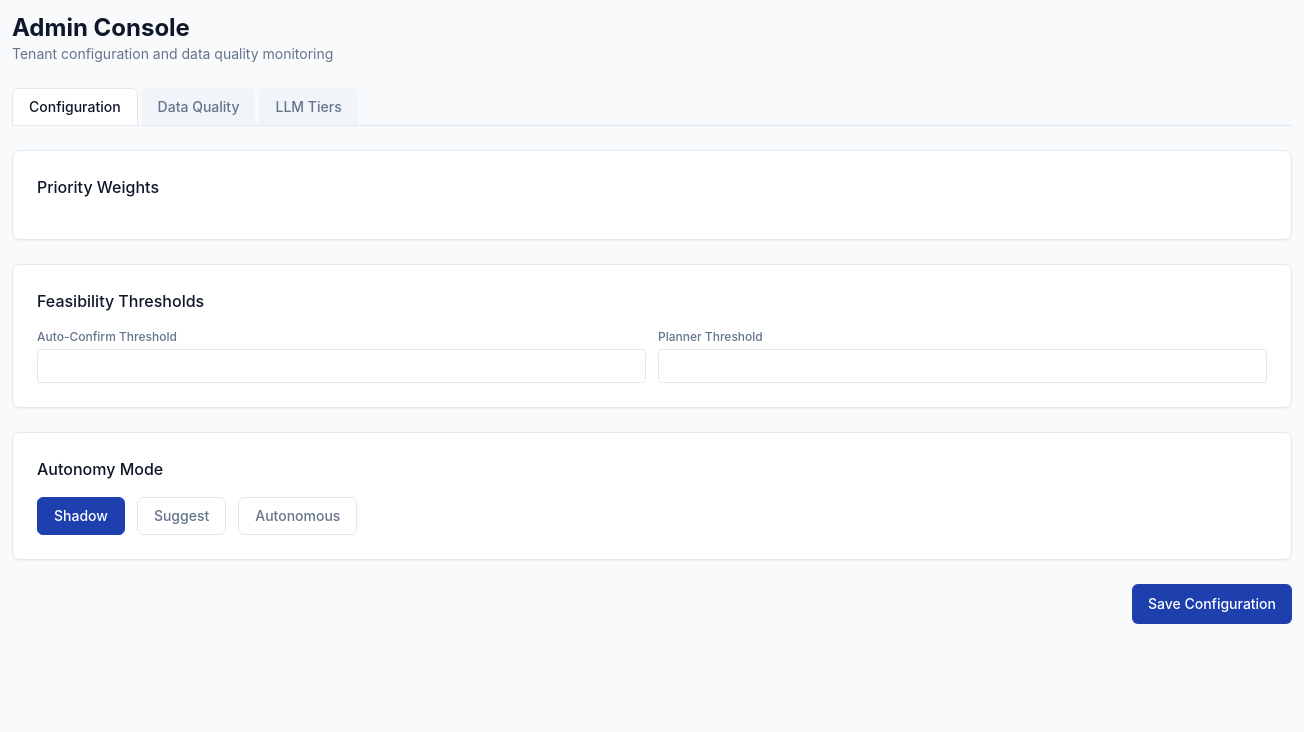
Test: AdminPage › shows data quality metrics when tab is clicked
Expected: the heading "Admin Console" is shown, [12, 13, 190, 42]
Click the button "Data Quality" at {"x": 199, "y": 106}, box [142, 88, 256, 125]
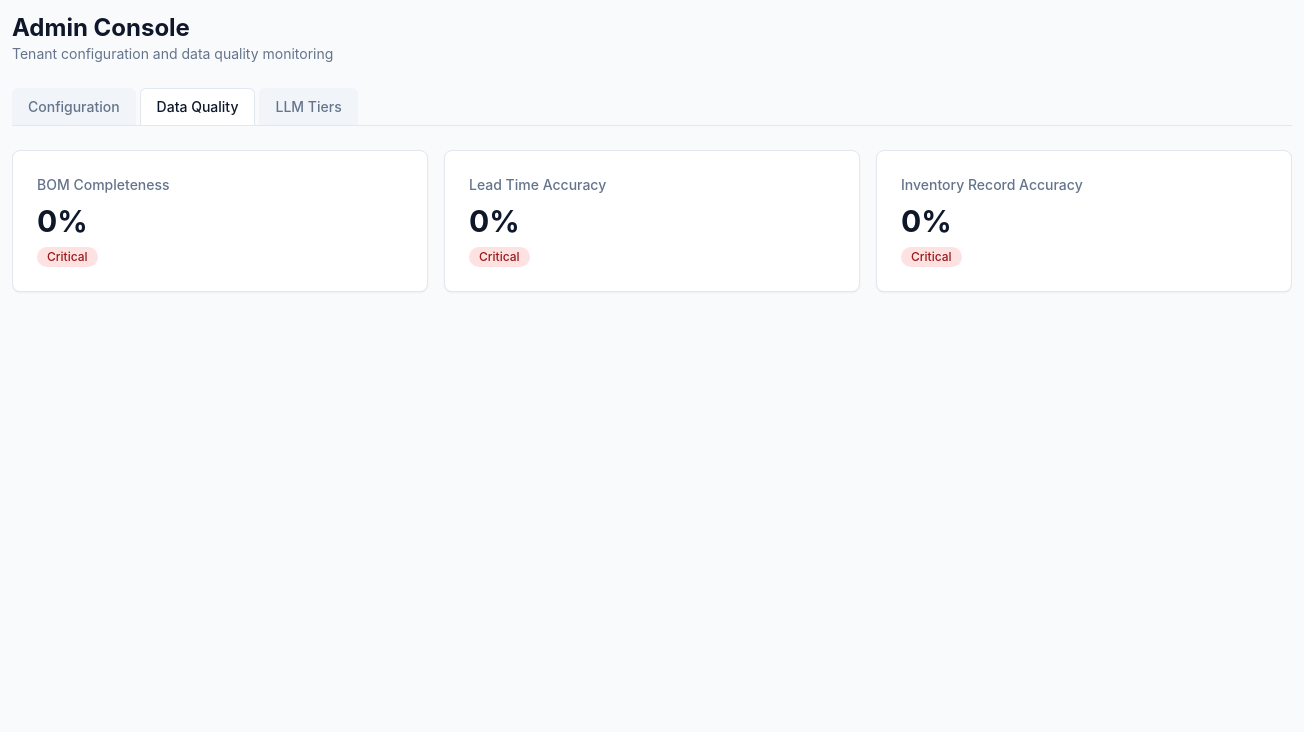
Expected: the heading "BOM Completeness" is shown, [37, 176, 170, 193]
Expected: the heading "Lead Time Accuracy" is shown, [469, 176, 606, 193]
Expected: the heading "Inventory Record Accuracy" is shown, [901, 176, 1083, 193]
